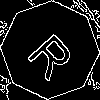R: (25, 25, 83, 82)
